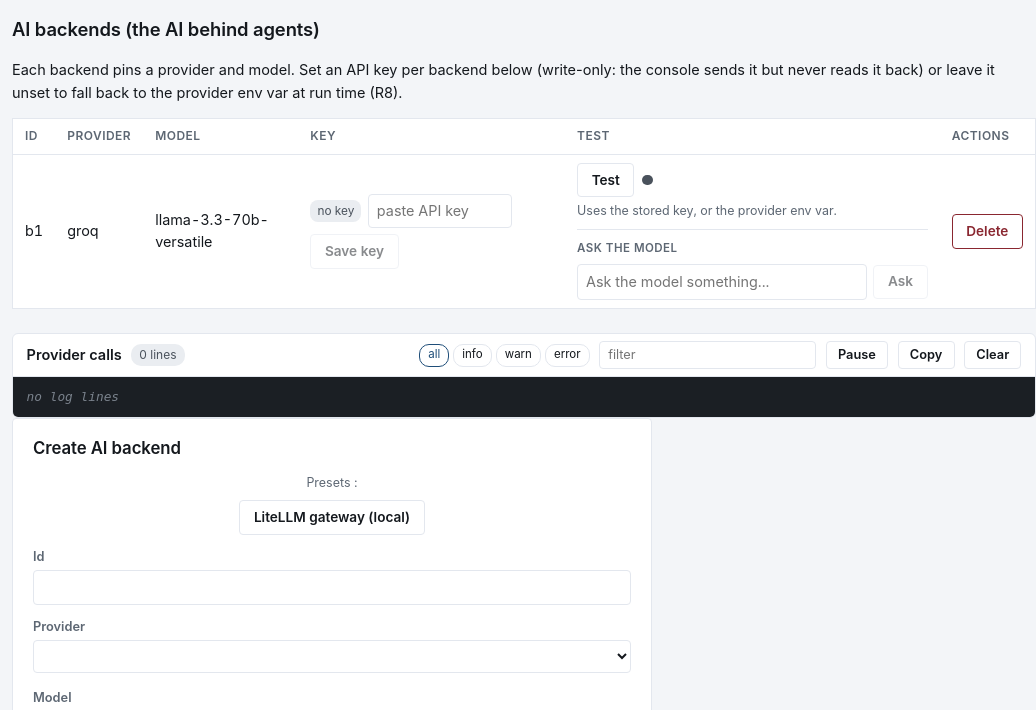
Test case: AiBackendsPanel › the typed key value never appears in the rendered DOM after save
Type "super-secret-value" into the password field named "API key for b1" at [440, 211], box [368,194,512,228]
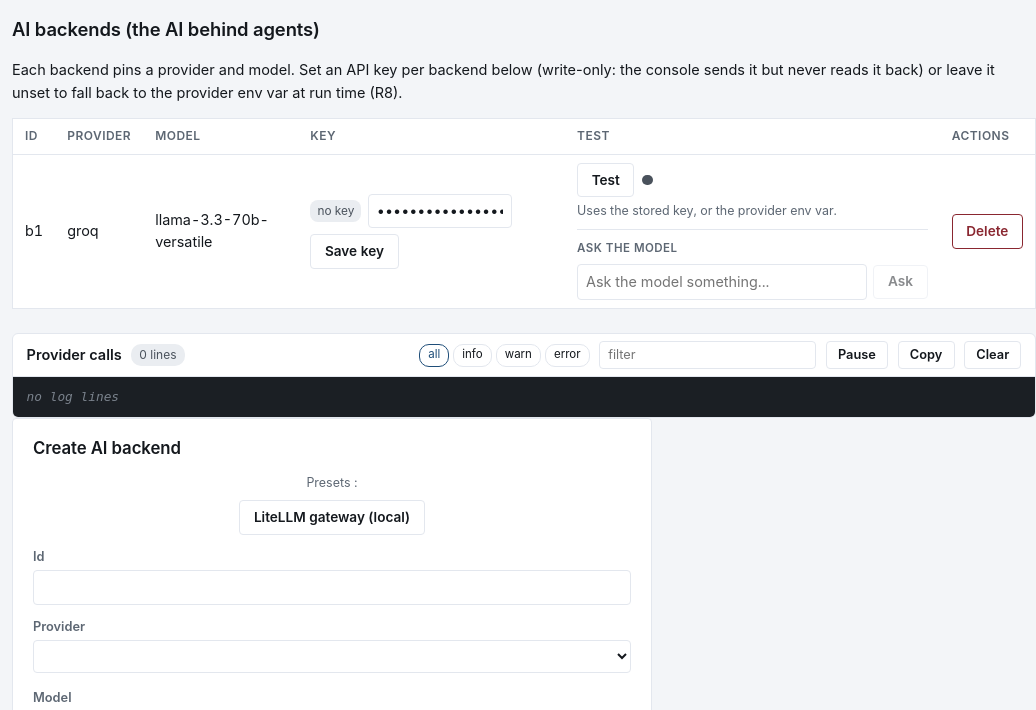
Click the button "Save key" at [354, 252], box [310,234,399,269]
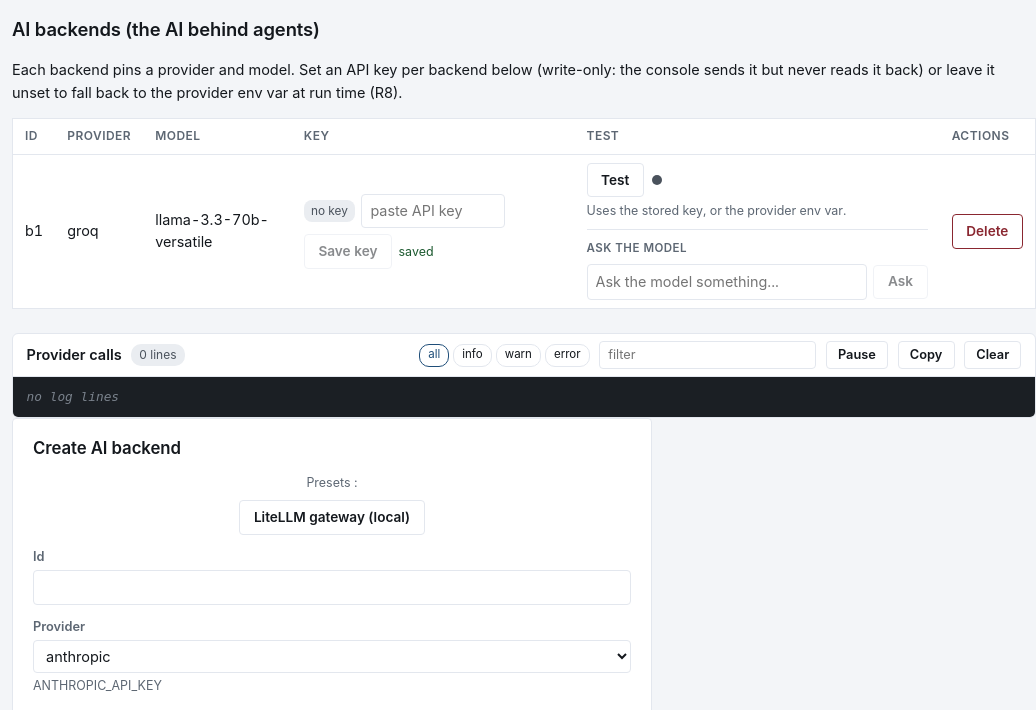
Result: the password field named "API key for b1" is empty at [361,194,505,228]
Result: the text "saved" is shown at [398,242,434,261]
